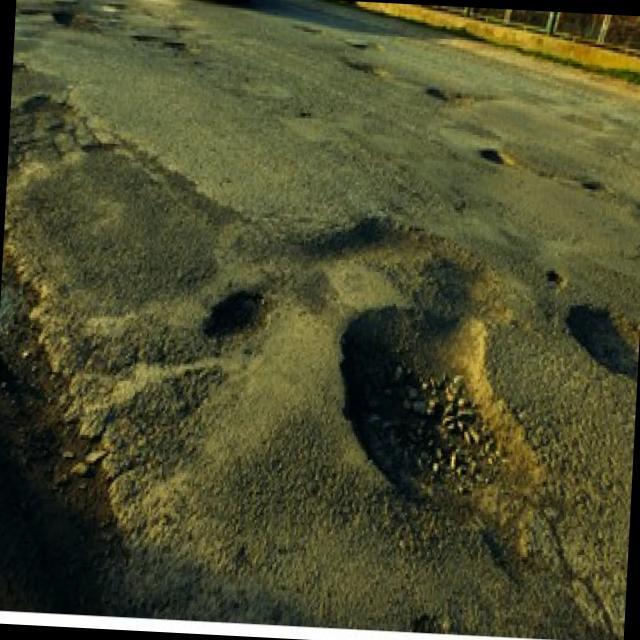Pothole: (330, 296, 548, 532), (302, 210, 514, 302), (5, 88, 83, 218), (561, 300, 640, 395), (201, 288, 274, 356), (51, 8, 103, 36), (424, 86, 475, 112), (345, 60, 390, 80), (478, 146, 514, 168), (543, 266, 568, 288), (131, 33, 161, 45), (582, 181, 608, 192), (162, 40, 186, 49), (55, 0, 79, 7), (17, 10, 43, 16), (107, 2, 126, 10), (352, 42, 368, 50), (300, 110, 312, 118)
